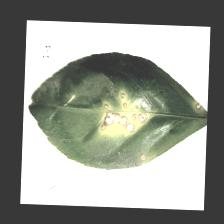canker: (78, 92, 156, 138)
